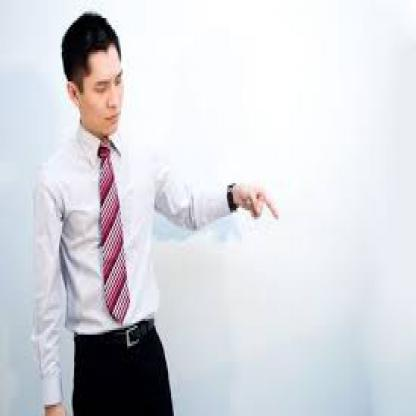Down: (230, 162, 280, 230)
